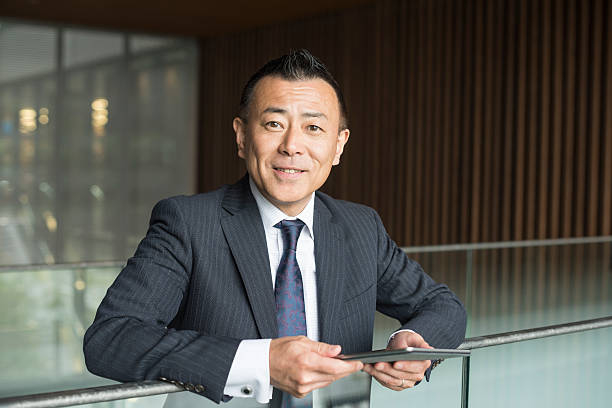person: (231, 48, 352, 208)
